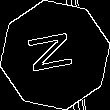N_E: (27, 31, 83, 79)
